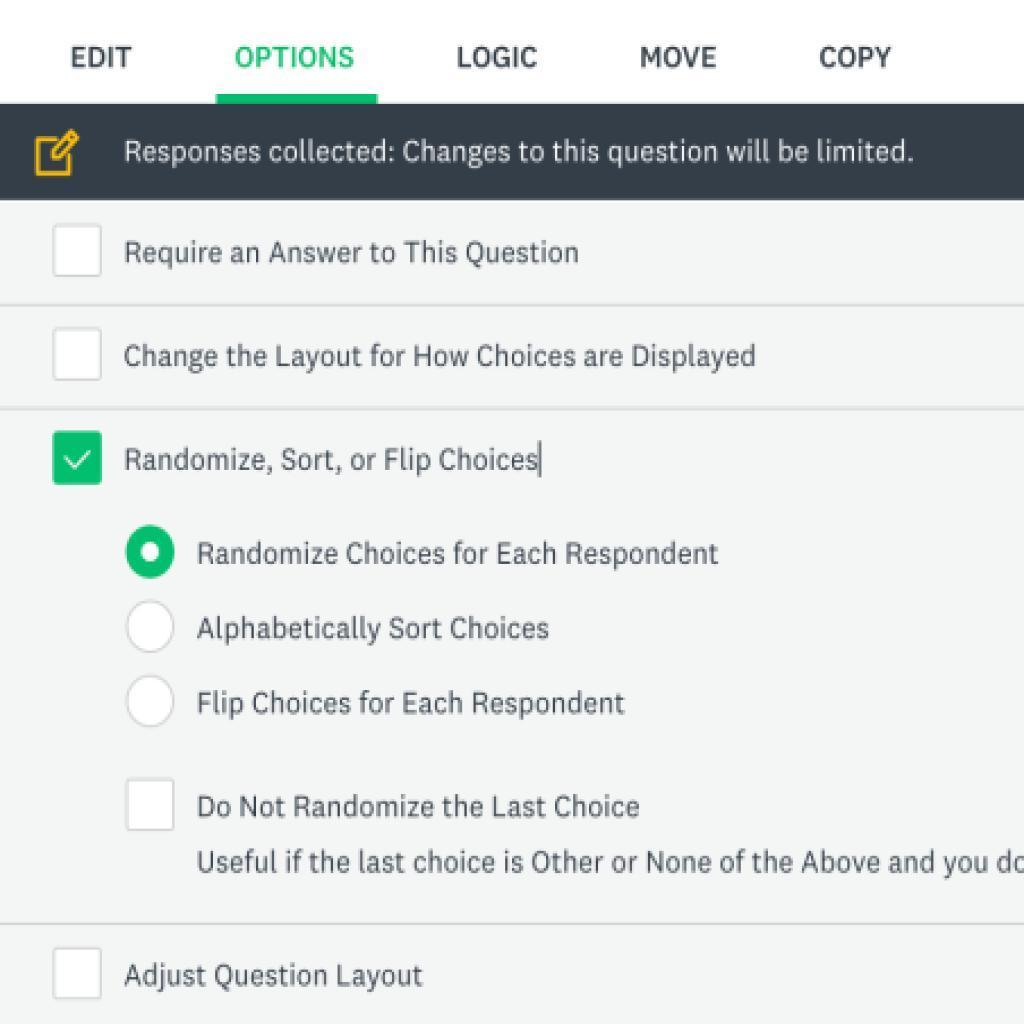checkbox: (54, 223, 103, 278), (54, 430, 100, 488), (54, 328, 103, 381), (54, 950, 102, 1001), (128, 780, 173, 832)
icon: (31, 131, 81, 183)
label: (127, 340, 762, 374), (198, 532, 726, 572), (197, 782, 652, 827), (125, 237, 588, 273), (114, 441, 546, 477), (192, 690, 636, 723), (194, 611, 552, 650), (122, 960, 432, 1001), (235, 44, 358, 74), (460, 41, 544, 77), (818, 38, 896, 76), (640, 41, 719, 78), (70, 41, 135, 75)
radio: (125, 525, 176, 584), (124, 675, 176, 731), (127, 600, 177, 654)
